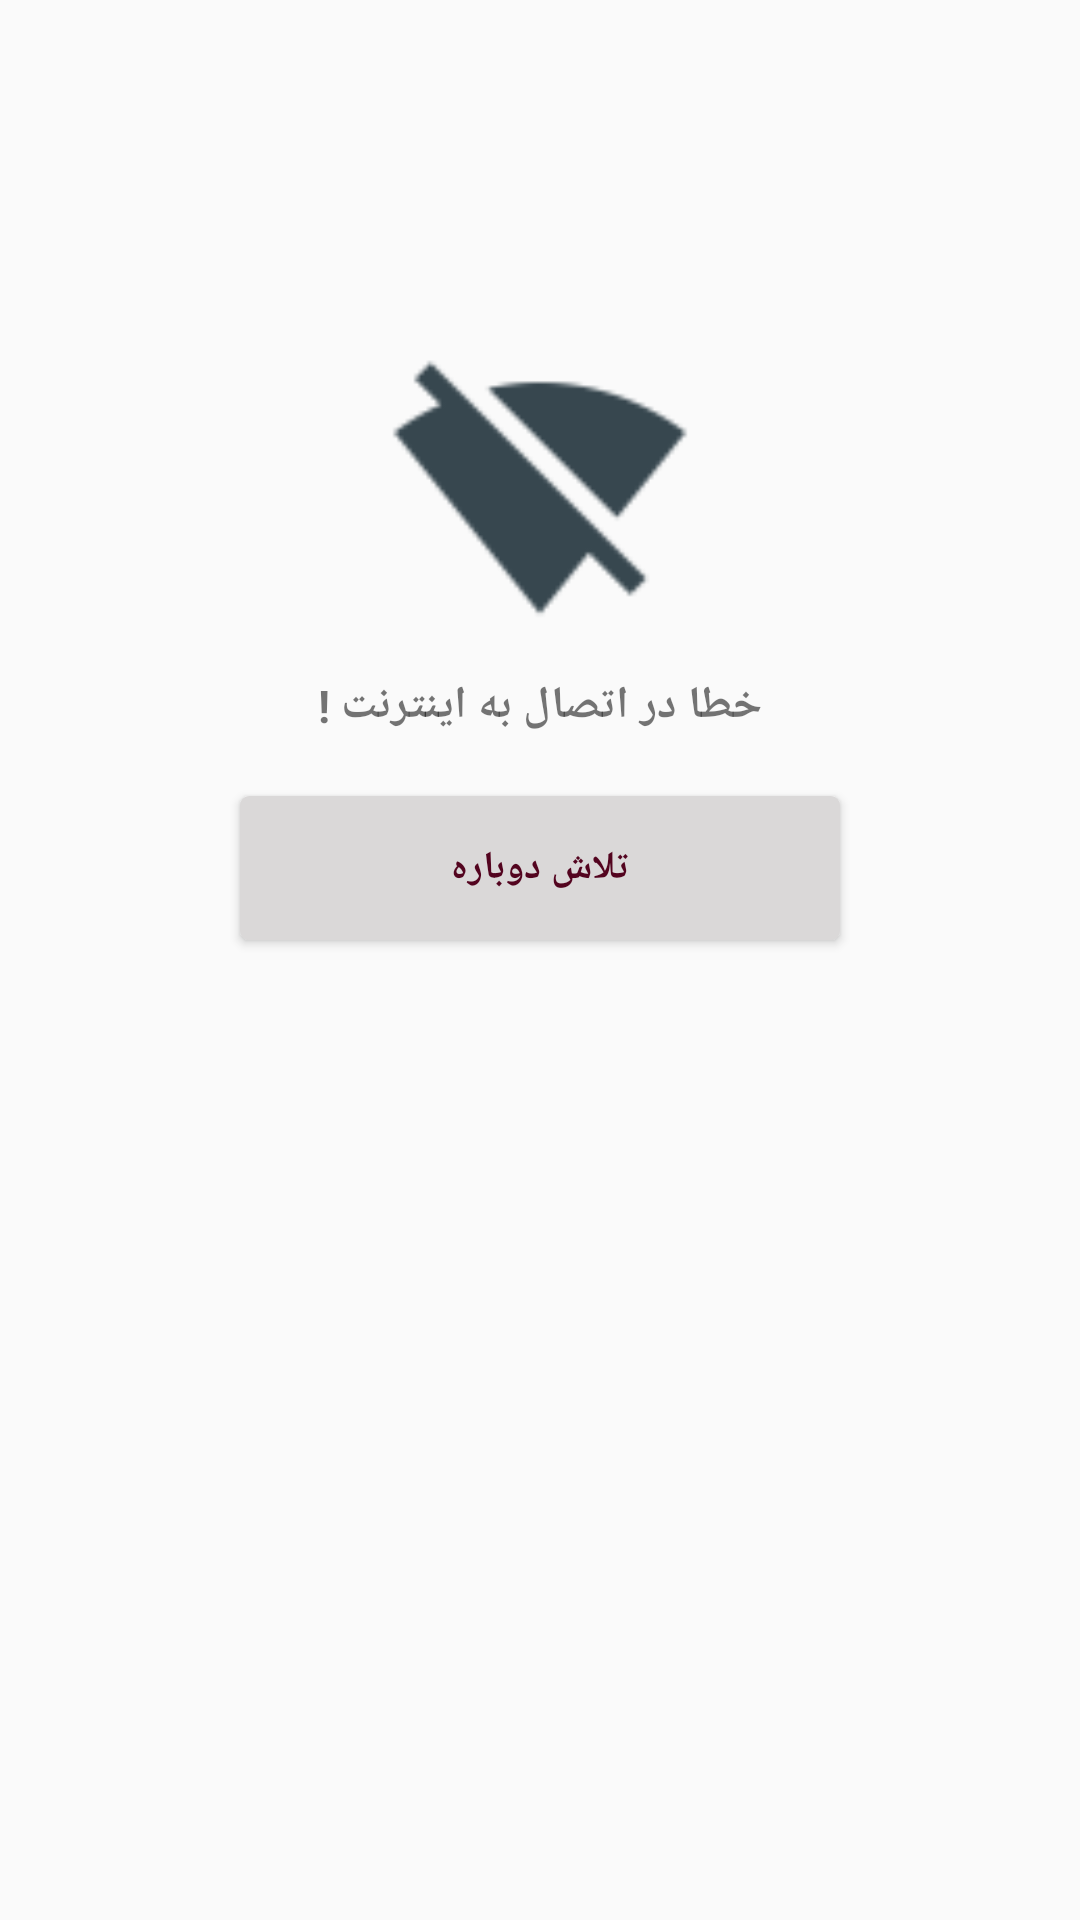

Where to tap for icons on this 1080px×1920px app screen, as [x,y]:
signal wifi off: [540,487]
